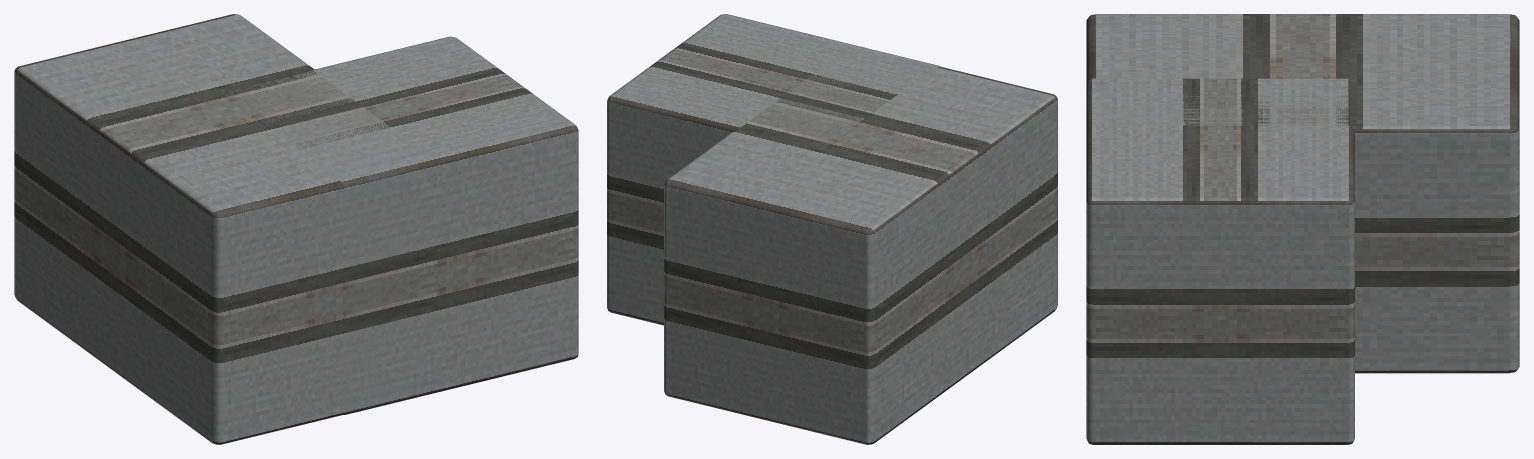
Rendered from duct-elbow.glb.
3 renders of one model, left to right at view 1: azimuth 30°, elevation 25°; view 2: azimuth 150°, elevation 25°; view 3: azimuth 270°, elevation 25°, orthographic. The views are drawn at different scales.
Visible parts, largest first — view 1: leg-a, leg-b; view 2: leg-a, leg-b; view 3: leg-b, leg-a.
Part boxes in pixels (bbox=[...]): leg-a: bbox=[14, 14, 436, 444]; leg-b: bbox=[224, 36, 578, 414]; leg-a: bbox=[664, 47, 1057, 444]; leg-b: bbox=[607, 14, 939, 325]; leg-b: bbox=[1086, 78, 1354, 444]; leg-a: bbox=[1086, 14, 1519, 373].
Size of the model in its own units: 0.67 by 0.41 by 0.65.
1 material, 1 textured.
